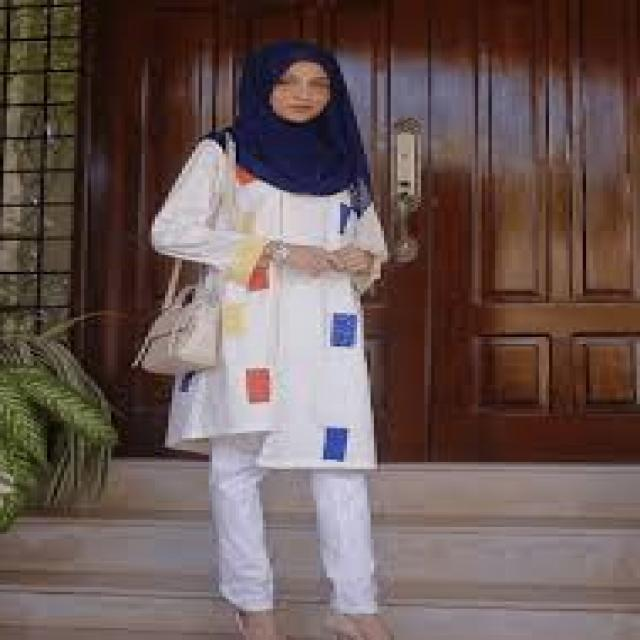adult: (135, 29, 431, 625)
